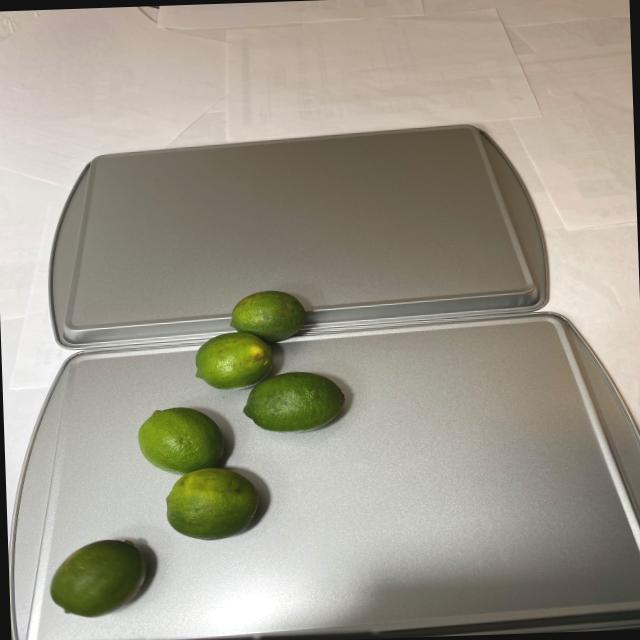lemon: (39, 284, 356, 616)
